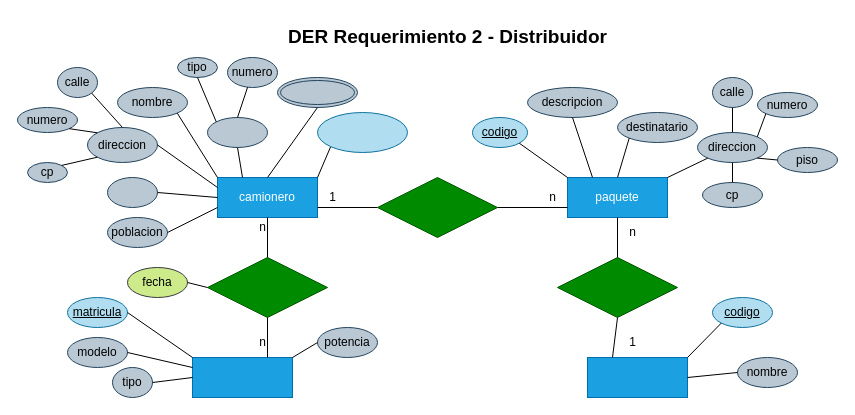
Some shapes in this 855 by 415 pixel diagram are drawn without their labels. Here are the shapes that lost their labels. From the top down, the box of each, then its label:
(276, 76, 358, 108): telefono
(206, 116, 268, 148): dni
(316, 112, 408, 152): id_camionero
(106, 176, 158, 208): salario
(376, 176, 498, 238): Transporta
(206, 256, 328, 318): conduce
(556, 256, 678, 318): Llegan
(192, 356, 292, 398): camion
(586, 356, 688, 398): provincia
